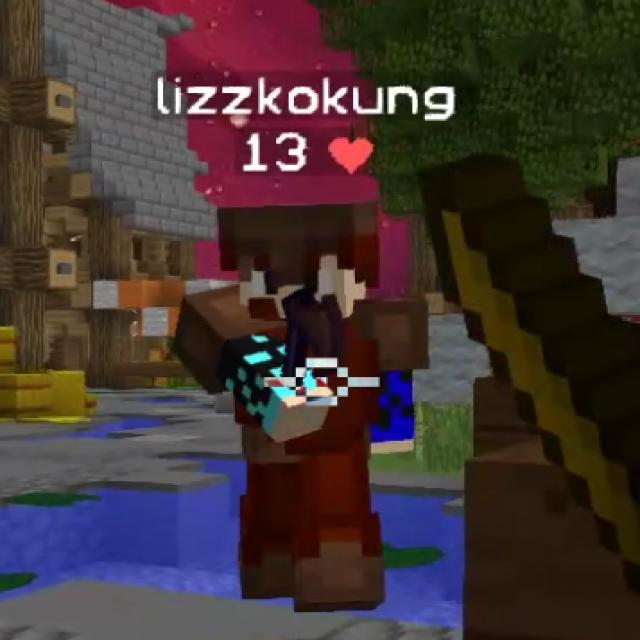Player: (172, 200, 430, 610)
